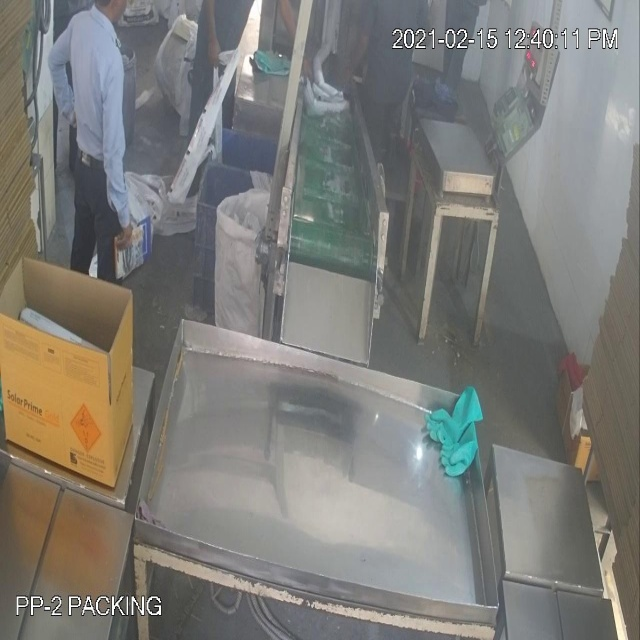Guantes: (415, 369, 490, 489)
Sin_guantes: (98, 40, 134, 253), (273, 1, 318, 89), (332, 5, 366, 104), (198, 1, 226, 87)
